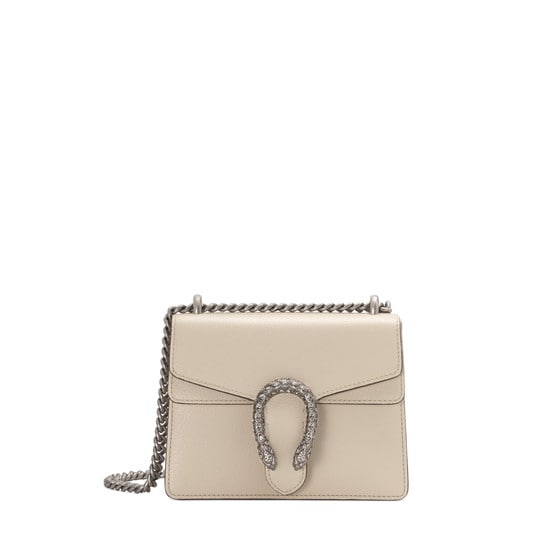Gucci: (143, 266, 421, 512), (242, 372, 330, 476)
